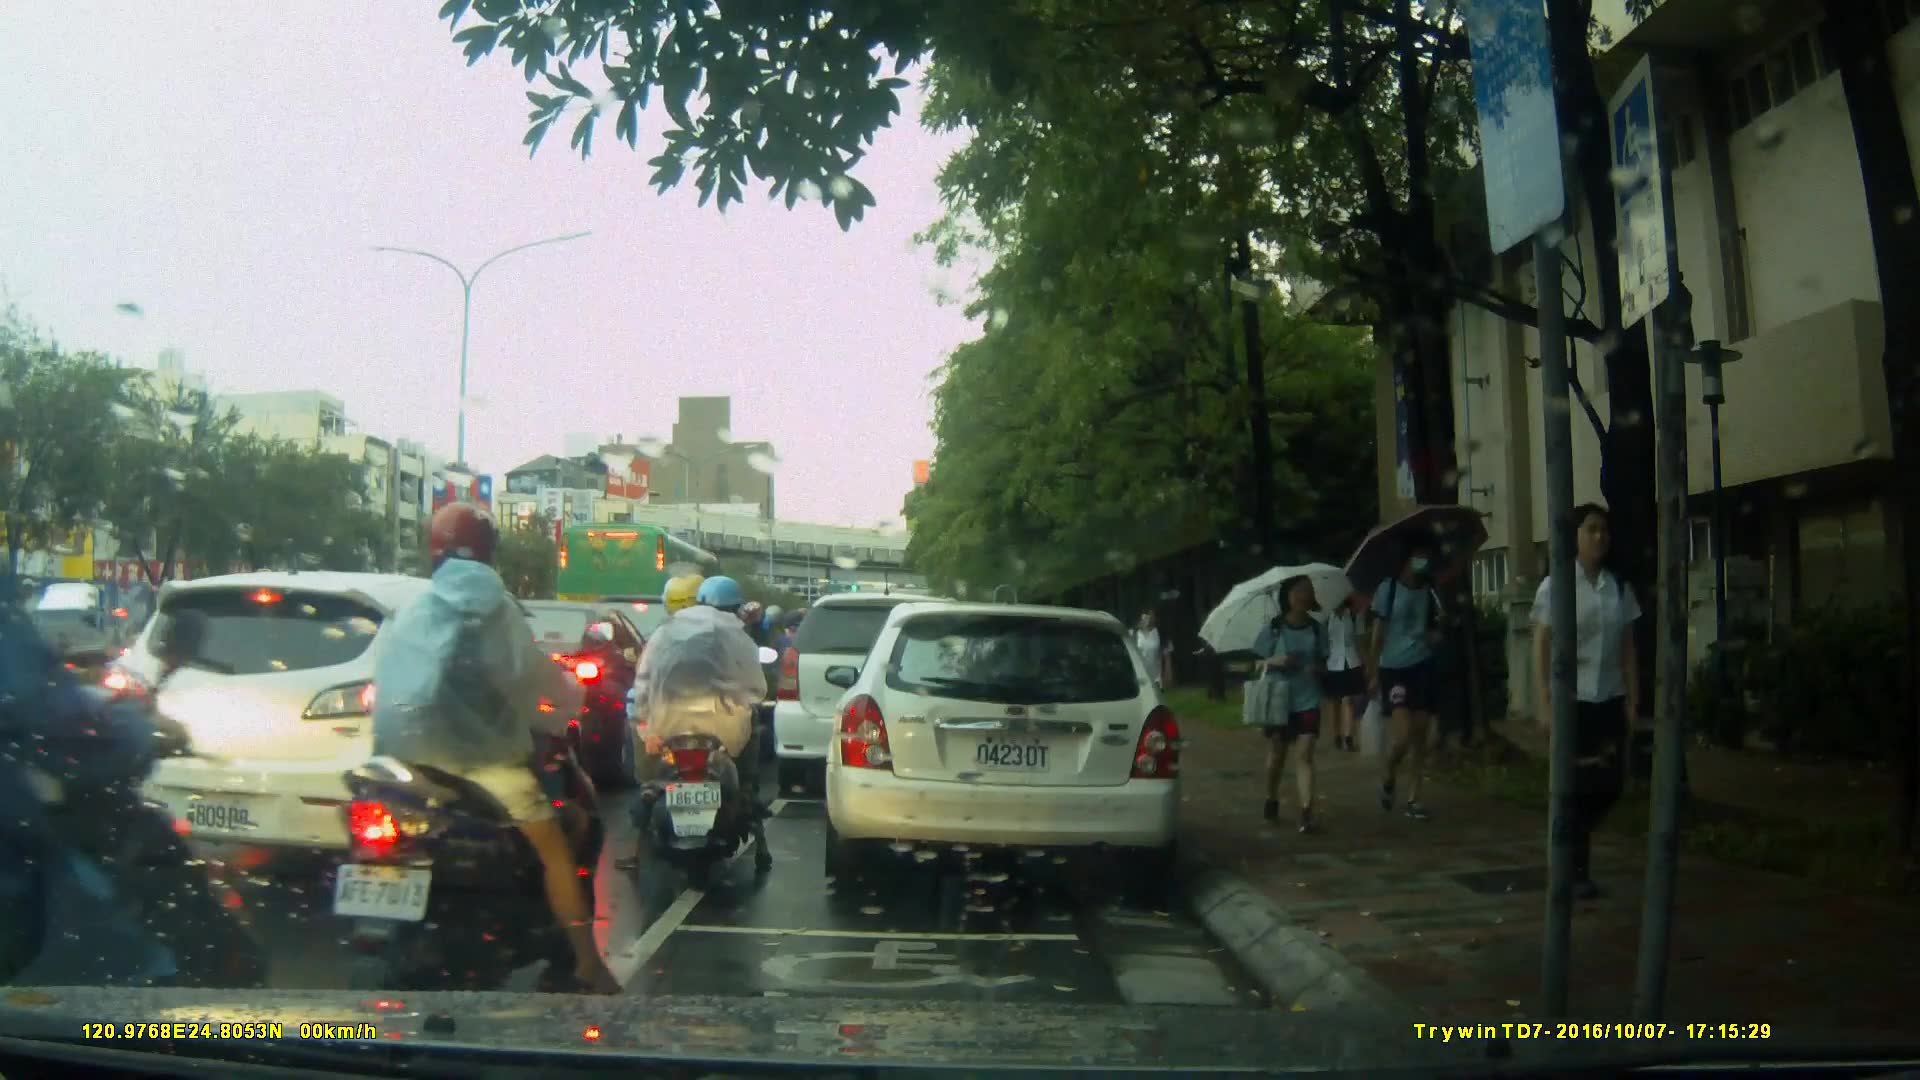pedestrian: (1520, 494, 1649, 902), (1344, 537, 1467, 833), (1243, 563, 1348, 845), (1128, 600, 1173, 750)
rider: (1, 525, 281, 1075), (329, 501, 633, 999), (613, 575, 777, 884), (660, 587, 762, 811)
vehicle: (95, 569, 590, 883), (822, 604, 1186, 883), (774, 595, 995, 802), (556, 520, 740, 666), (20, 576, 199, 697)
